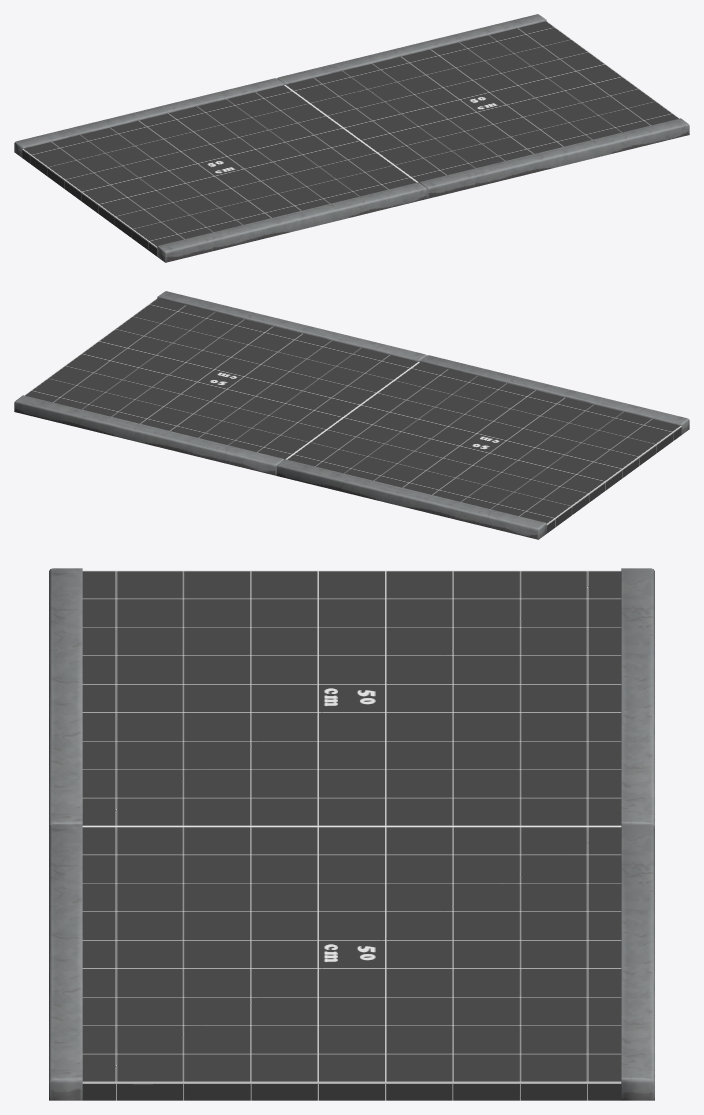
File: M02SideWalk02_2.FBX
3 views of the same model, one above another, from view 1: azimuth 30°, elevation 25°; view 2: azimuth 150°, elevation 25°; view 3: azimuth 270°, elevation 25° (orthographic). The views are drawn at different scales.
Parts seen in each view (by area): view 1: M02SideWalk02_2; view 2: M02SideWalk02_2; view 3: M02SideWalk02_2.
Part boxes in pixels (x1,y1,x2,y2): M02SideWalk02_2: (14, 14, 689, 262); M02SideWalk02_2: (14, 291, 689, 539); M02SideWalk02_2: (49, 568, 654, 1100).
Size of what is drawn, in the model's own units: 9 by 0.1783 by 4.5.
